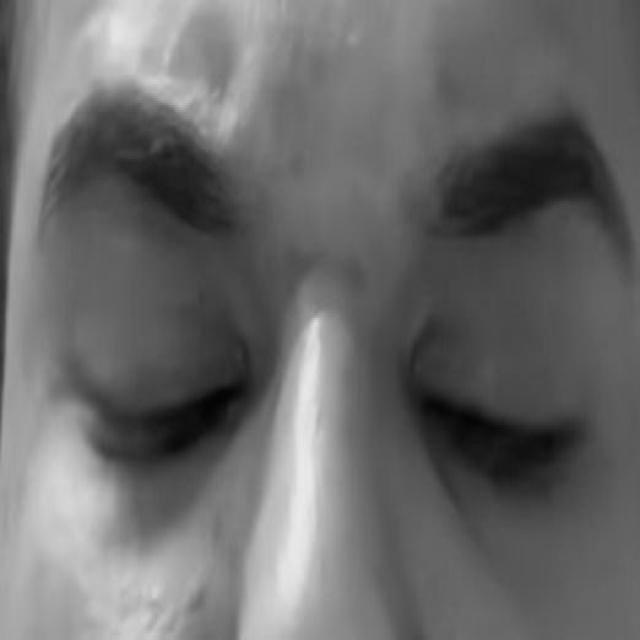real: (52, 142, 614, 566)
